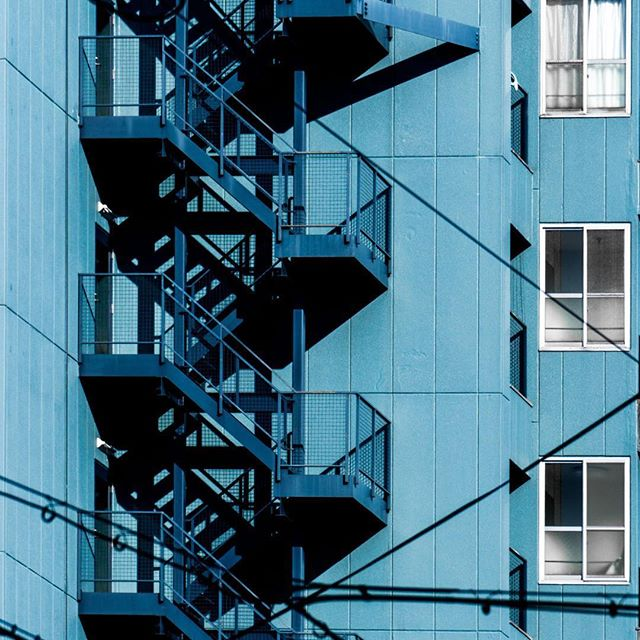building: (1, 1, 640, 640)
window: (546, 463, 630, 584), (546, 224, 630, 344), (541, 1, 625, 120)
